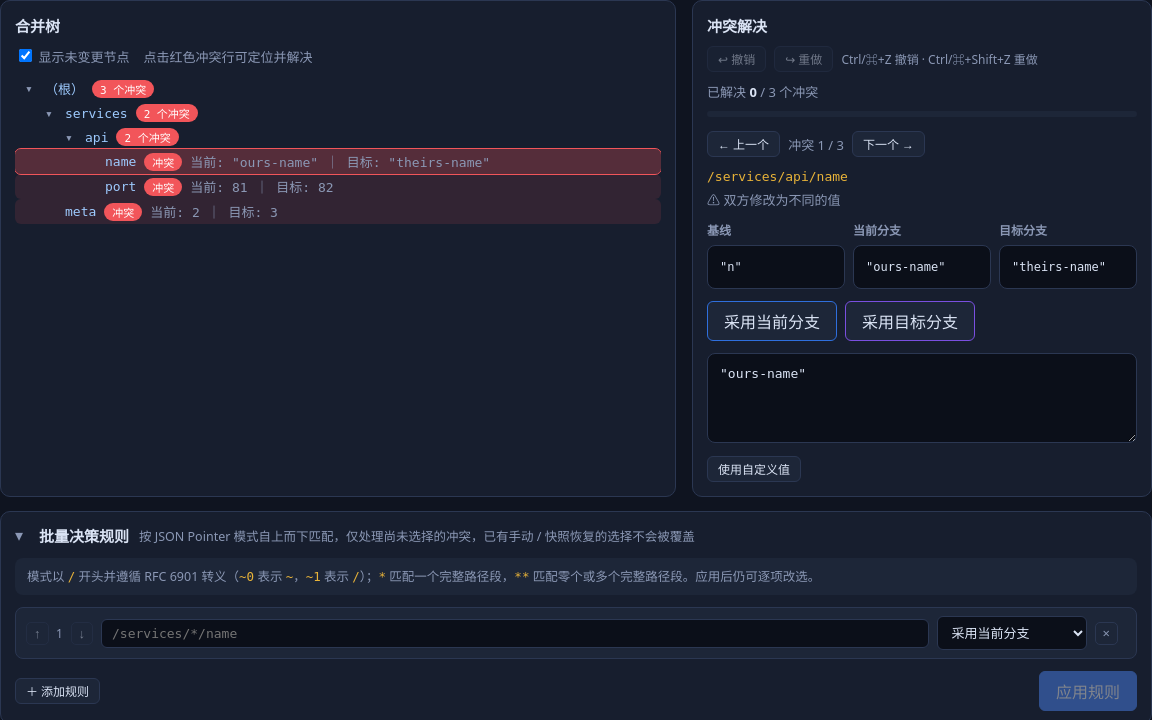
Test case: MergeStage 撤销 / 重做 › 手动决策逐级撤销、重做，按钮禁用状态随之更新
This screenshot has width=1152, height=720.
Click the button "采用当前分支" at (772, 321), box x1=707 y1=301 x2=837 y2=341
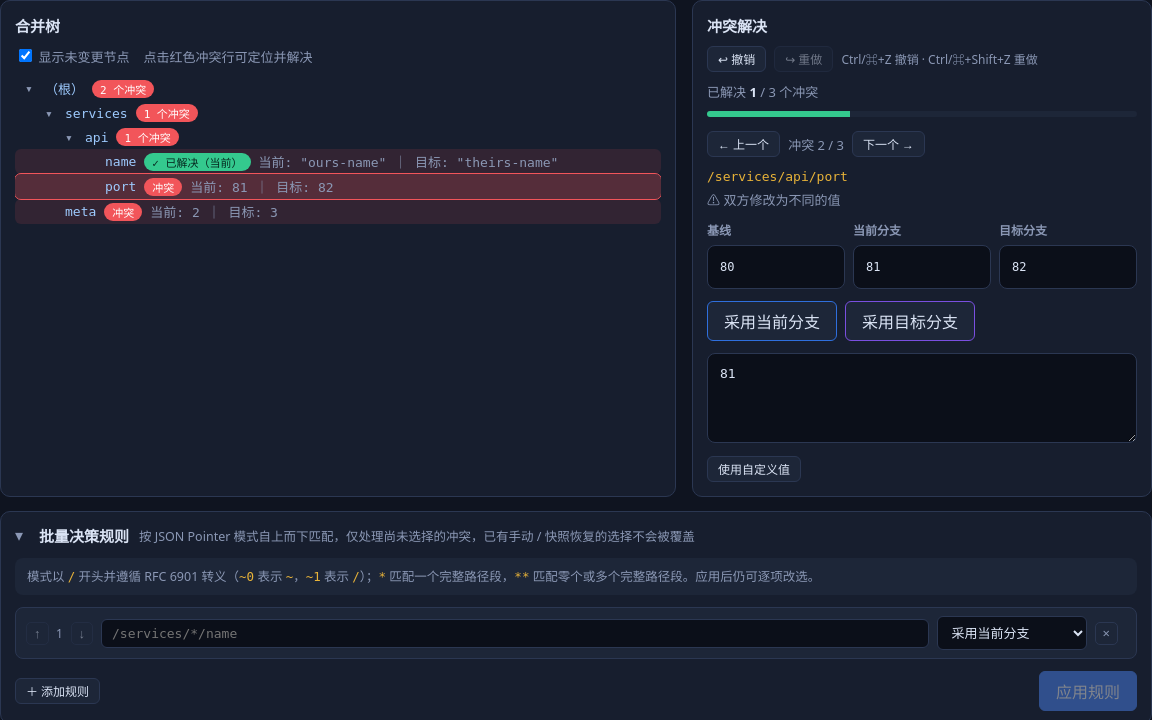
Expected: the button "↪ 重做" is disabled, x1=774 y1=46 x2=833 y2=72
Now the button "↩ 撤销" is enabled, box x1=707 y1=46 x2=766 y2=72
Note: 自动跳到下一个未解决冲突（port），选目标分支
Click the button "采用目标分支" at (910, 321), box x1=845 y1=301 x2=975 y2=341
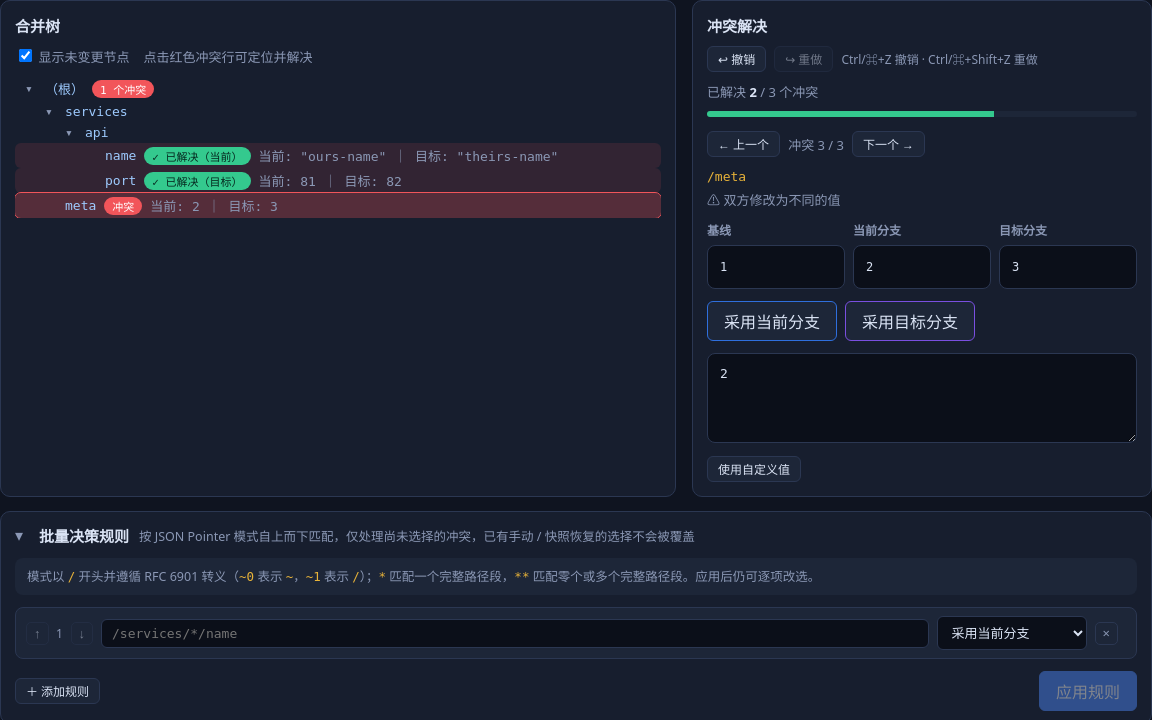
Click the button "↩ 撤销" at (737, 59), box x1=707 y1=46 x2=766 y2=72
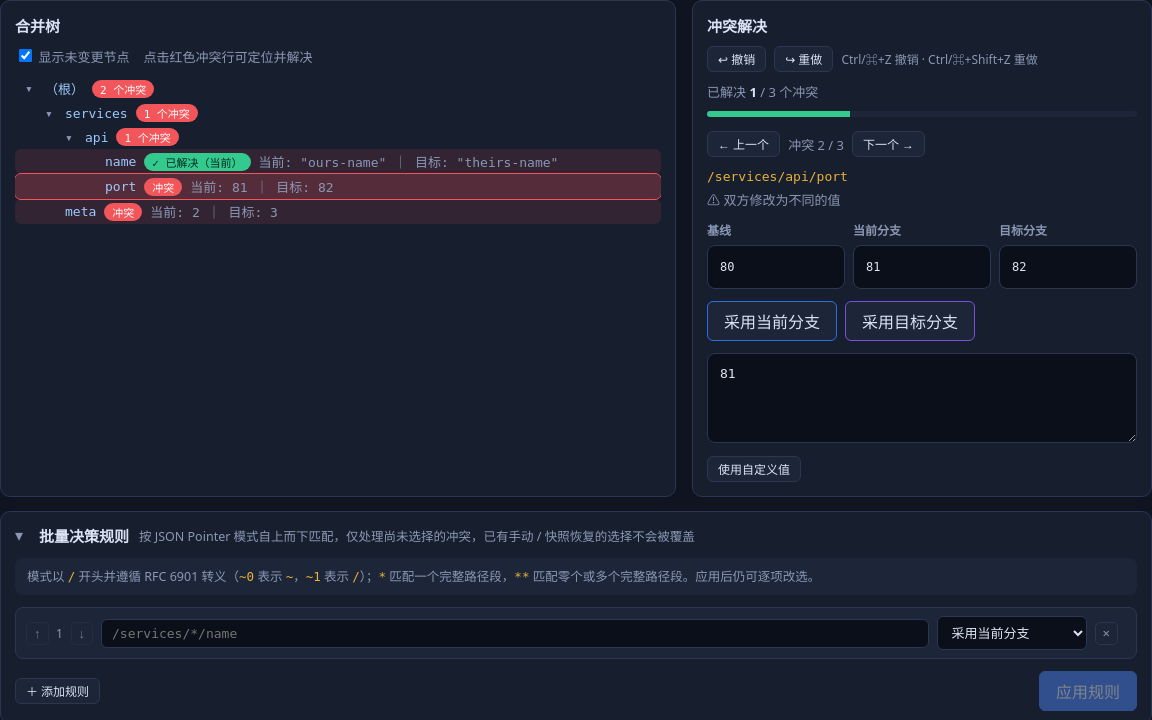
Now the button "↪ 重做" is enabled, box x1=774 y1=46 x2=833 y2=72
Click the button "↩ 撤销" at (737, 59), box x1=707 y1=46 x2=766 y2=72
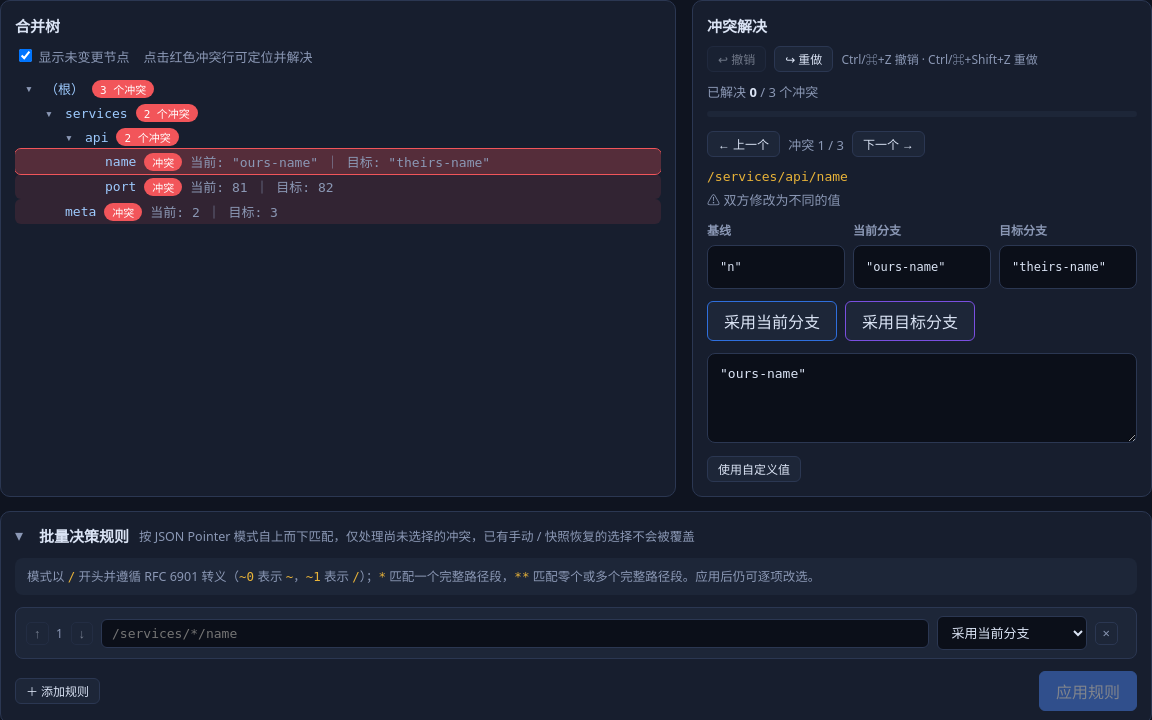
Now the button "↩ 撤销" is disabled, box x1=707 y1=46 x2=766 y2=72
Click the button "↪ 重做" at (804, 59), box x1=774 y1=46 x2=833 y2=72
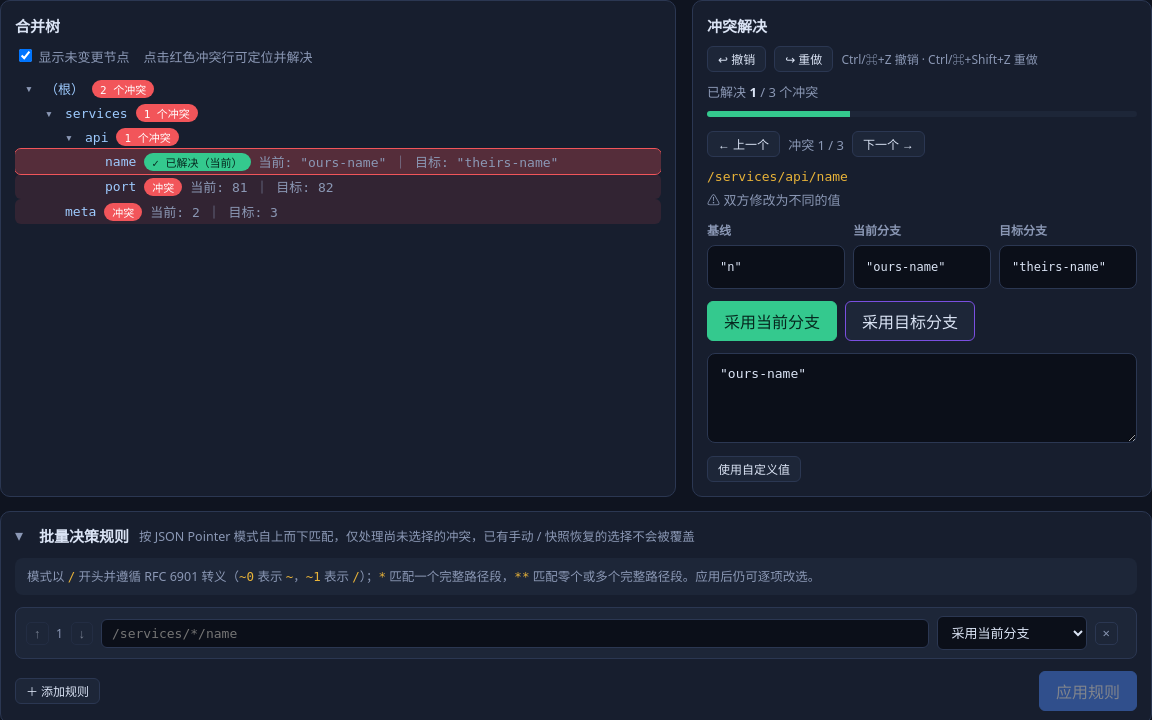
Click the button "↪ 重做" at (804, 59), box x1=774 y1=46 x2=833 y2=72
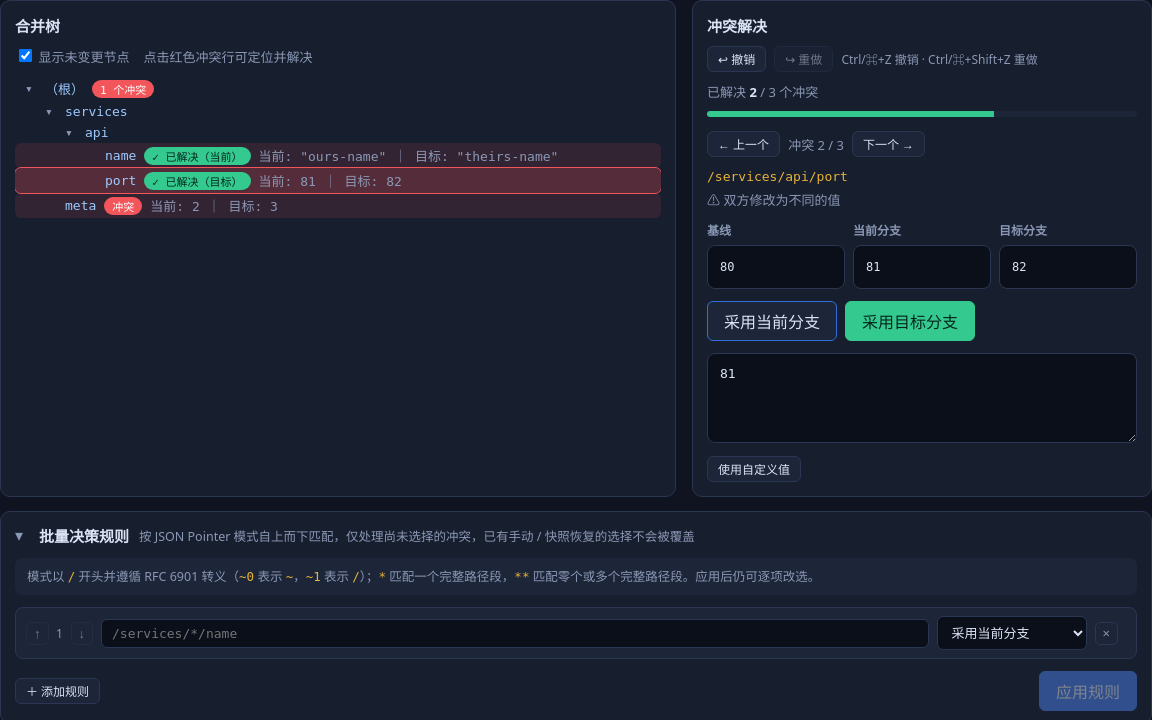
Now the button "↪ 重做" is disabled, box x1=774 y1=46 x2=833 y2=72
